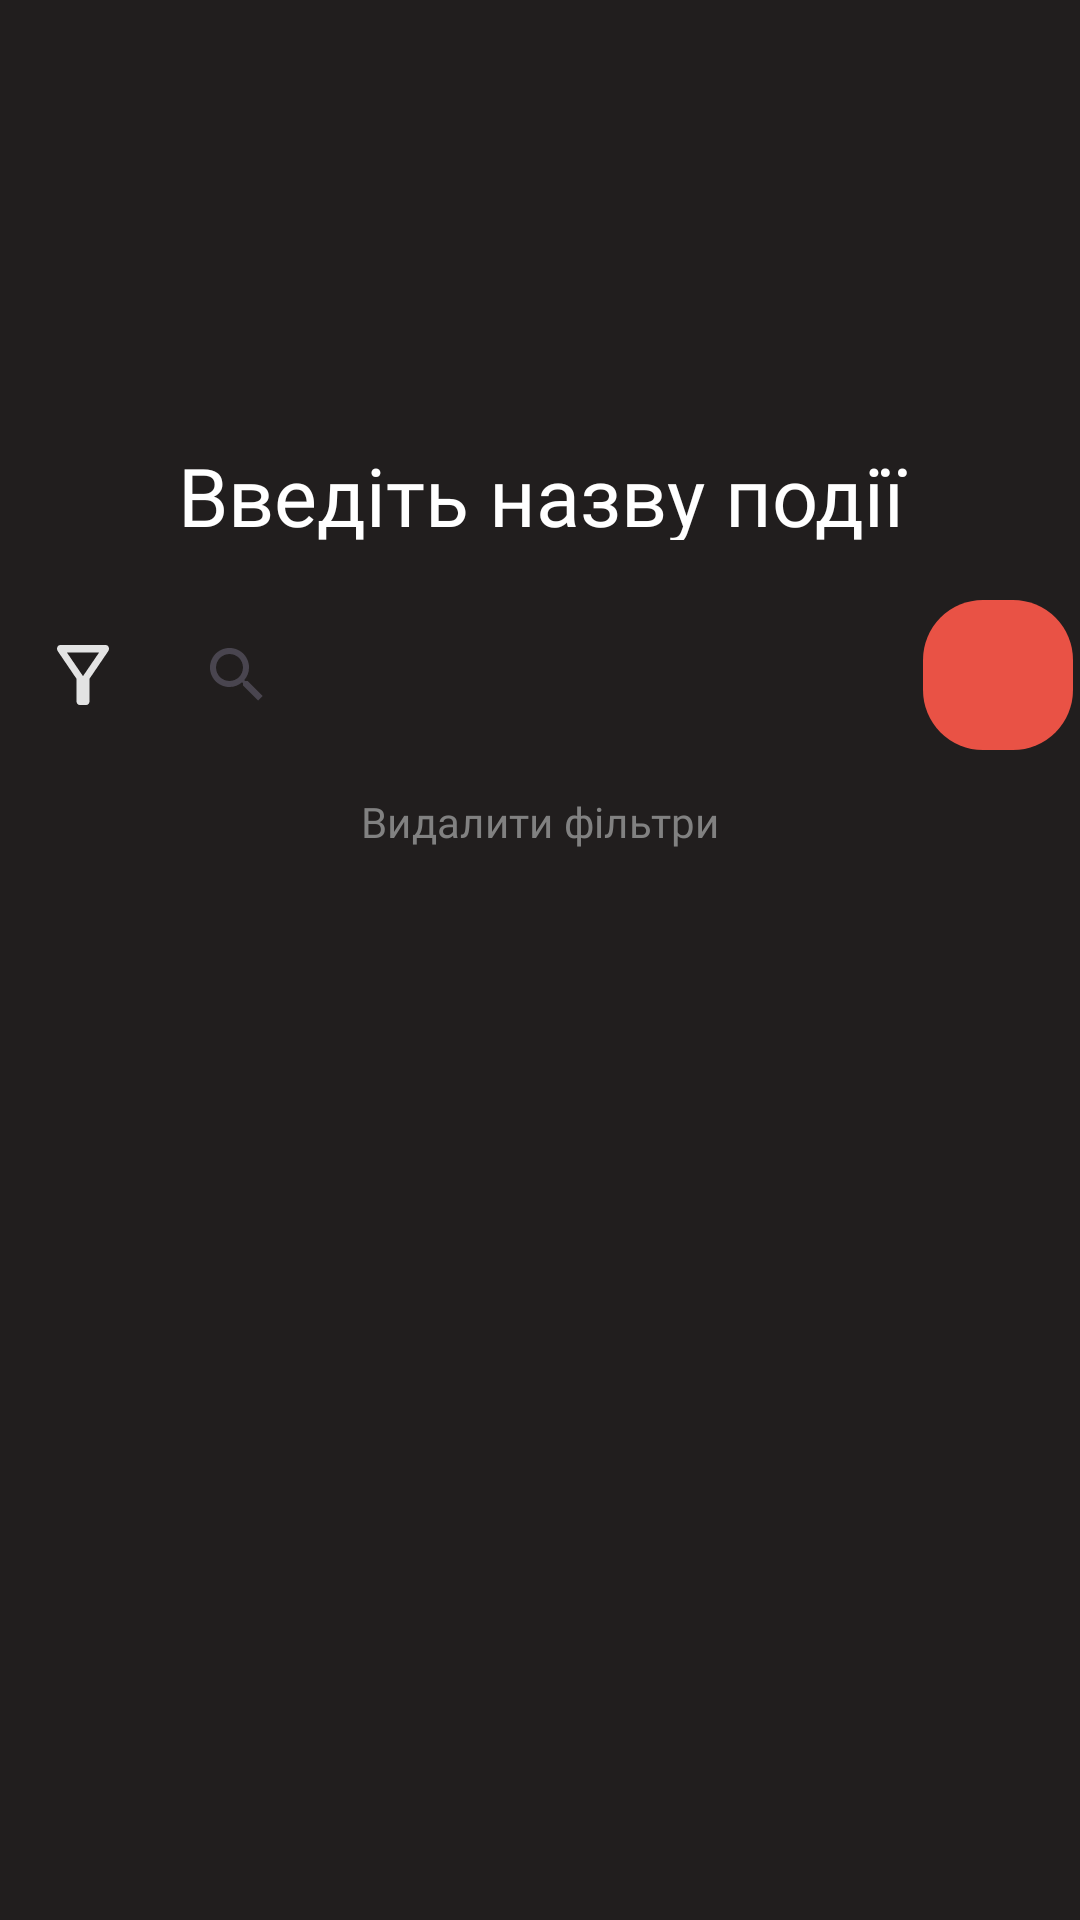

Where icons sit on this 1080*1920 app screen, as Rect(x1, y1, x2, y2):
filter: Rect(57, 645, 109, 705)
